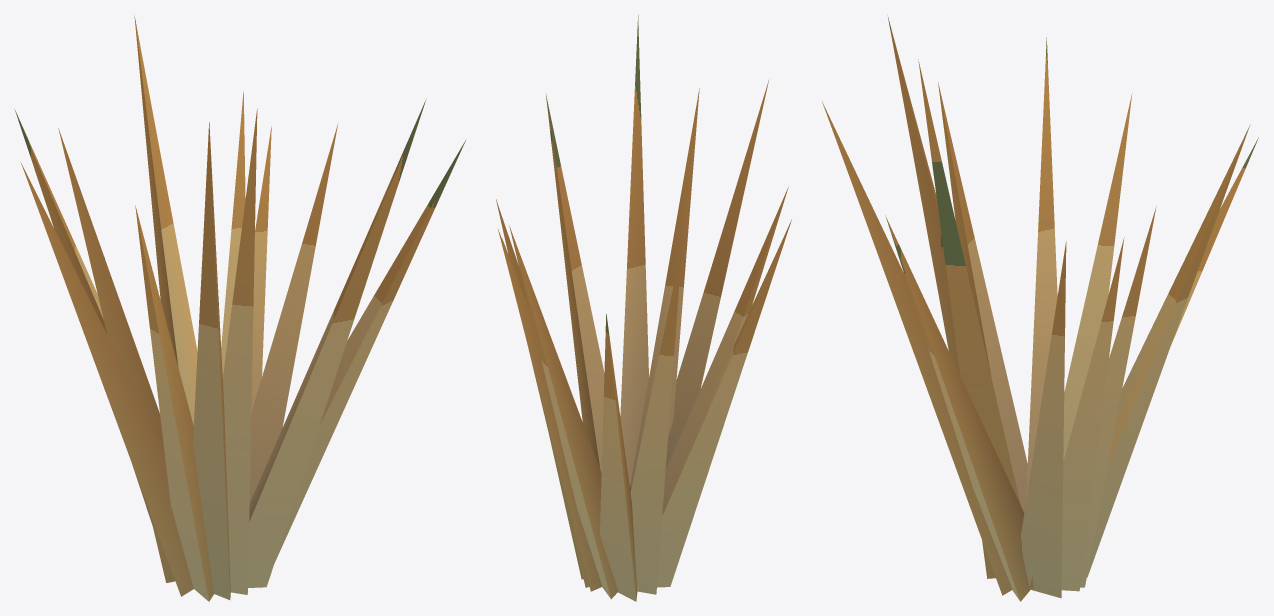
Rendered from wland.grass.glb.
The picture shows the model from 3 angles, left to right: view 1: azimuth 30°, elevation 25°; view 2: azimuth 150°, elevation 25°; view 3: azimuth 270°, elevation 25°; orthographic projection. The views are drawn at different scales.
Visible parts, largest first — view 1: kit_blades; view 2: kit_blades; view 3: kit_blades.
Boxes of the visible parts, x1,y1,x2,y2 form: kit_blades: [14, 16, 466, 601]; kit_blades: [496, 15, 791, 601]; kit_blades: [822, 17, 1258, 601].
Size of the model in its own units: 0.3458 by 0.4936 by 0.3696.
Materials: 1 (1 with a texture image).
